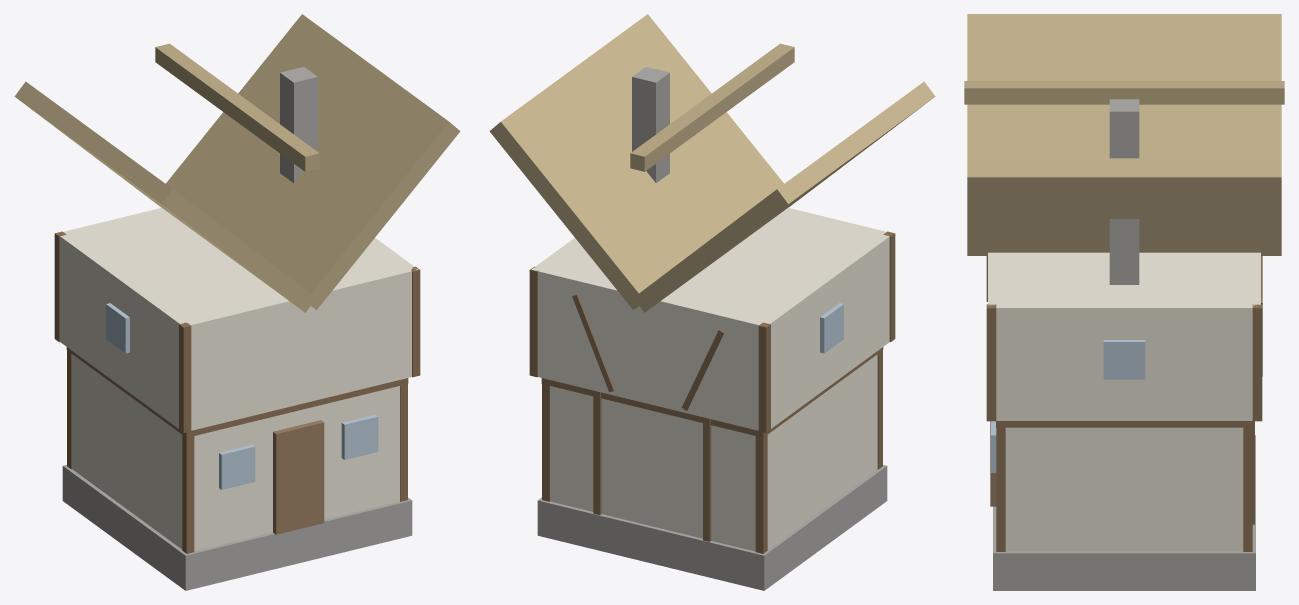
The model's file is house.glb.
The picture shows the model from 3 angles, left to right: view 1: azimuth 30°, elevation 25°; view 2: azimuth 150°, elevation 25°; view 3: azimuth 270°, elevation 25°; orthographic projection. The views are drawn at different scales.
Visible parts, largest first — view 1: House0; view 2: House0; view 3: House0.
Boxes of the visible parts, box(x1,y1,x2,y2) form: House0: box(14, 14, 460, 590); House0: box(489, 14, 935, 590); House0: box(964, 14, 1284, 590).
Size of the model in its own units: 6.22 by 8.52 by 5.4.
